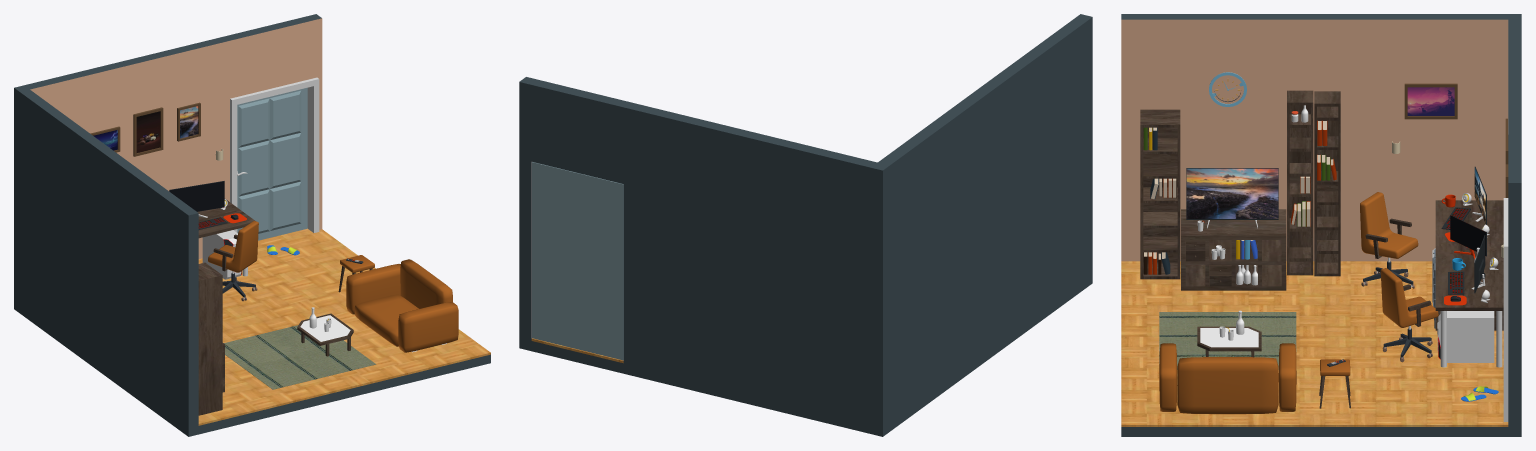
File: room_level_5.glb
3 views of the same model, side by side, from view 1: azimuth 30°, elevation 25°; view 2: azimuth 150°, elevation 25°; view 3: azimuth 270°, elevation 25° (orthographic). The views are drawn at different scales.
Parts seen in each view (by area): view 1: Plane, Plane.013, Plane.001, Cube.012, Plane.006, Plane.004, Plane.012, Cube, Plane.015, Cube.005, Plane.008, Cube.007 (+3 smaller); view 2: Plane, Plane.001; view 3: Plane, Plane.013, Cube.012, Plane.005, Plane.004, Plane.008, Cube.003, Plane.002, Plane.003, Plane.006, Cube.007, Cube.035 (+17 smaller).
Part boxes in pixels (x1,y1,x2,y2): Plane: (14,14,490,436); Plane.013: (198,228,490,425); Plane.001: (237,87,307,240); Cube.012: (346,259,458,352); Plane.006: (224,325,376,389); Plane.004: (198,262,222,415); Plane.012: (230,77,319,232); Cube: (208,221,258,272); Plane.015: (133,107,163,156); Cube.005: (169,181,224,211); Plane.008: (197,199,255,238); Cube.007: (202,230,241,279); Plane: (519,14,1092,436); Plane.001: (532,162,623,360); Plane: (1121,14,1521,436); Plane.013: (1121,261,1508,426); Cube.012: (1159,343,1296,414); Plane.005: (1181,209,1286,290); Plane.004: (1140,109,1180,279); Plane.008: (1433,200,1503,330); Cube.003: (1186,168,1278,219); Plane.002: (1314,91,1340,276); Plane.003: (1287,90,1313,275); Plane.006: (1159,312,1296,369); Cube.007: (1437,311,1494,362); Cube.035: (1360,192,1418,258).
Size of the model in its own units: 6 by 4.2 by 6.
45 materials, 9 textured.
